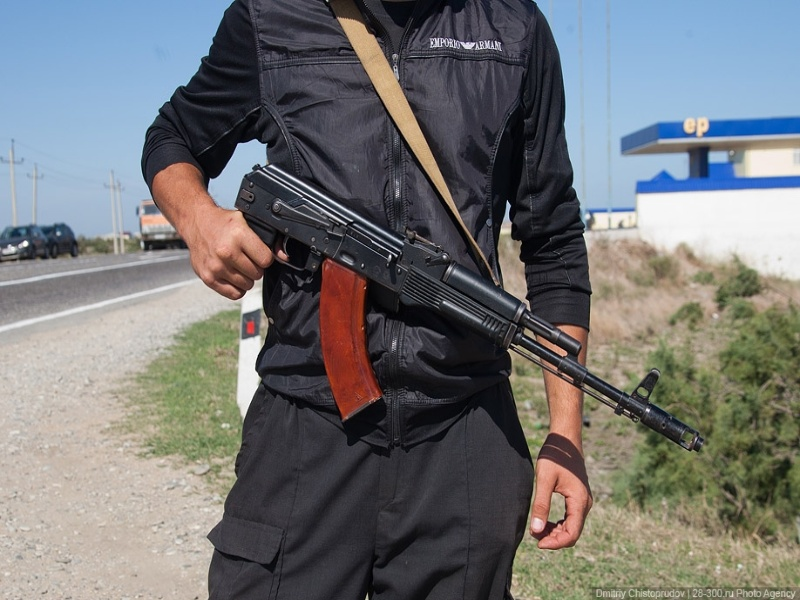car: (135, 200, 185, 250), (1, 225, 47, 262), (42, 223, 79, 258)
person: (140, 1, 593, 600)
weapon: (233, 165, 704, 453)
